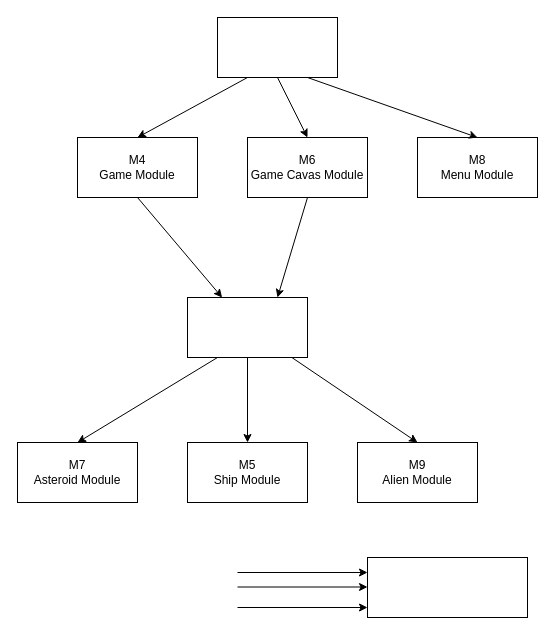
Image size: 555x635. Some labels were removed from this diagram. Here are the shapes that lost their labels. From the top down, the box of each, then its label:
(216, 16, 338, 78): M2 Behaviour-Hiding Module
(186, 296, 308, 358): M3 Software Decision Module
(366, 556, 528, 618): M1 Hardware Hiding Module
